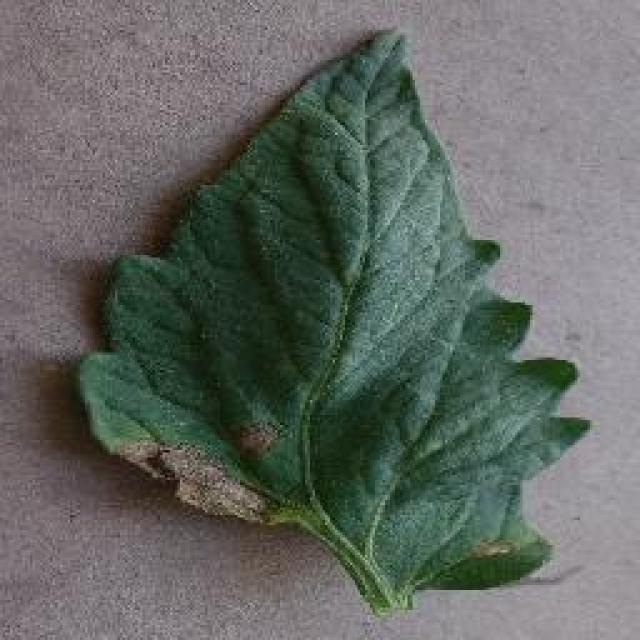Tomato Early blight leaf: (72, 23, 597, 597)
